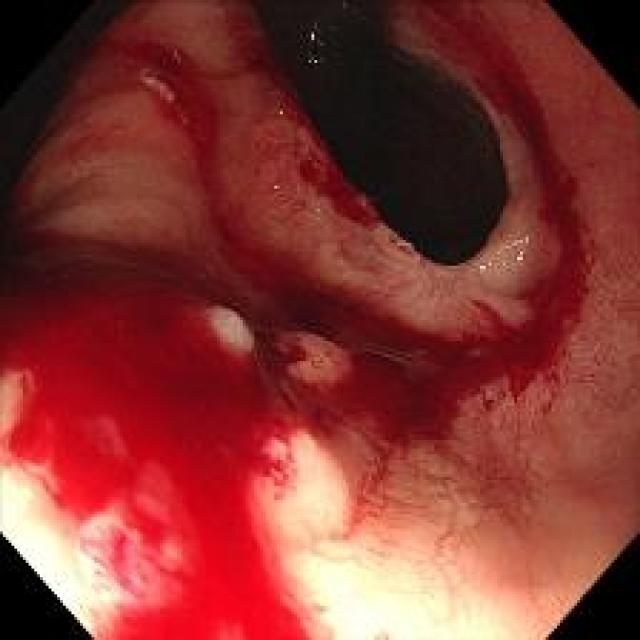blood: (18, 240, 314, 629), (264, 286, 502, 464), (492, 62, 600, 412), (119, 24, 229, 201), (275, 92, 389, 228)
contrast: (252, 10, 520, 266), (4, 8, 101, 312)
saturation: (0, 449, 126, 621), (291, 542, 520, 636)
specularity: (475, 239, 534, 272), (300, 21, 332, 74)
